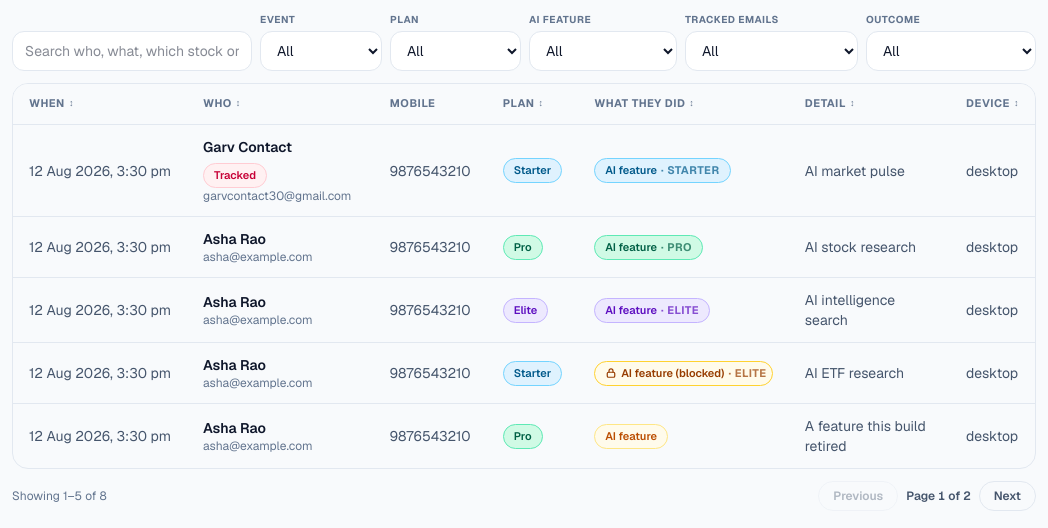
Test: the activity feed's controls › narrows to one plan, and to the arrivals that had no account
The image size is (1048, 528).
Select "Elite" in the dropdown labelled "Plan": x=456, y=51 top-left (390, 31), bottom-right (521, 71)
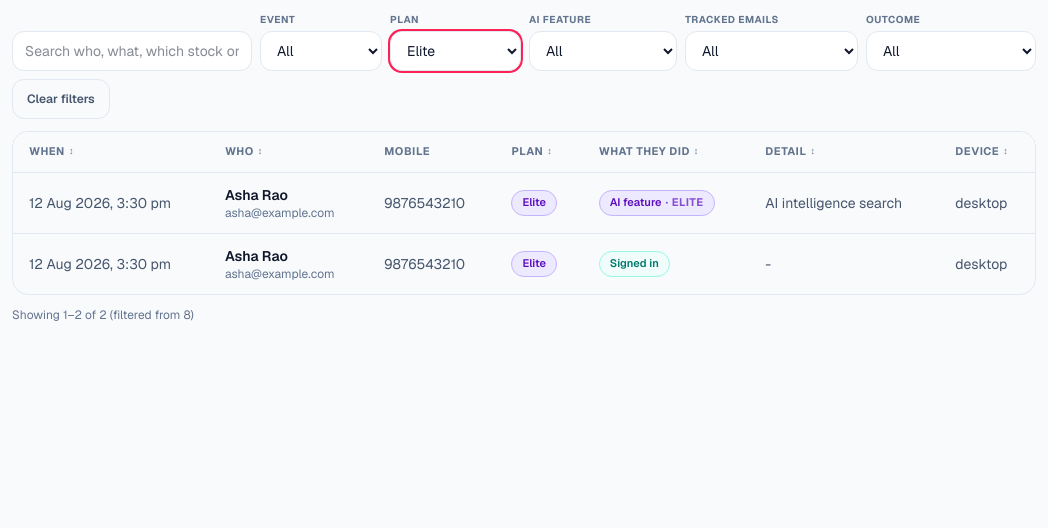
Check: the element titled "Elite AI feature" is shown, box top-left (599, 190), bottom-right (715, 216)
Check: the text "Showing 1–2 of 2 (filtered from 8)" is shown, box top-left (12, 307), bottom-right (194, 323)
Check: the row titled "Starter AI feature" is gone
Select "Not signed in" in the dropdown labelled "Plan": x=456, y=51 top-left (390, 31), bottom-right (521, 71)
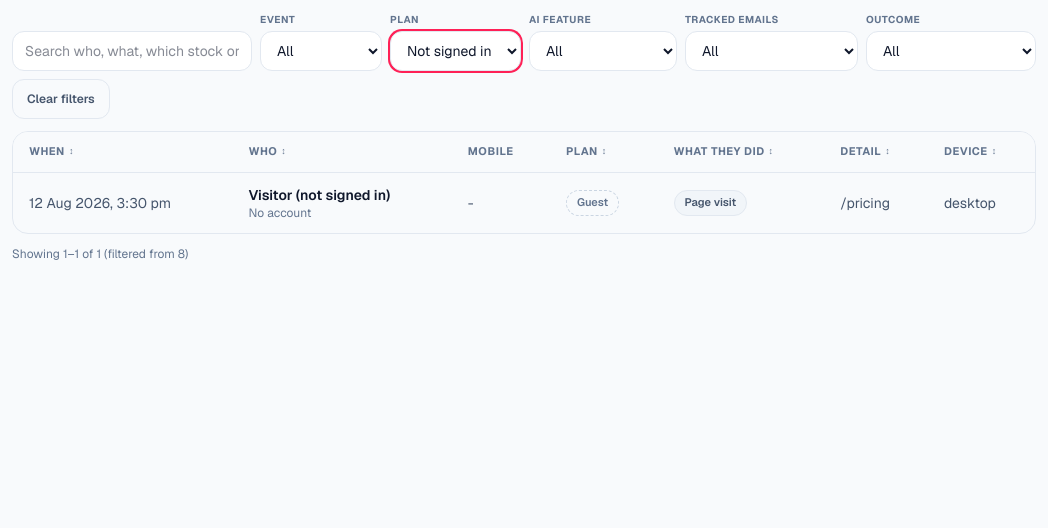
Check: the text "Guest" is shown, box top-left (566, 190), bottom-right (619, 216)
Check: the row titled "Elite AI feature" is gone
